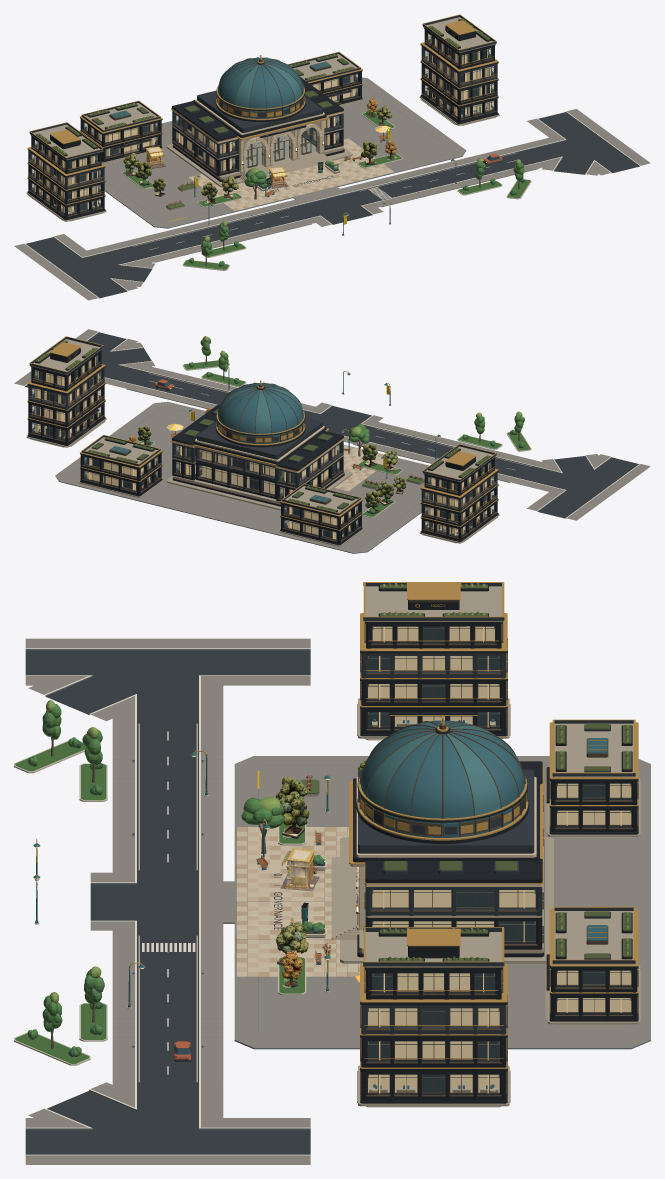
The model's file is governance-north-council-notice.glb.
The picture shows the model from 3 angles, top to bottom: view 1: azimuth 30°, elevation 25°; view 2: azimuth 150°, elevation 25°; view 3: azimuth 270°, elevation 25°; orthographic projection. The views are drawn at different scales.
Visible parts, largest first — view 1: NEXCIV paving, HERO_01_Governance_Hall.001, NEXCIV detail, NEXCIV city, HI3D | Garden Roof Retail.001, HI3D | Garden Roof Retail.002; view 2: NEXCIV paving, HERO_01_Governance_Hall.001, NEXCIV detail, NEXCIV city, HI3D | Garden Roof Retail.002, HI3D | Garden Roof Retail.001; view 3: NEXCIV paving, NEXCIV detail, HERO_01_Governance_Hall.001, NEXCIV city, HI3D | Garden Roof Retail.002, HI3D | Garden Roof Retail.001, STREET_Coffee_Stall.001, HI3D | Green Planter Tree.002.
Part boxes in pixels (x1,y1,x2,y2): NEXCIV paving: (14,77,650,300); HERO_01_Governance_Hall.001: (166,55,352,187); NEXCIV detail: (26,14,524,266); NEXCIV city: (28,99,531,270); HI3D | Garden Roof Retail.001: (80,100,163,163); HI3D | Garden Roof Retail.002: (288,51,363,105); NEXCIV paving: (14,329,650,553); HERO_01_Governance_Hall.001: (166,380,352,510); NEXCIV detail: (26,336,524,543); NEXCIV city: (30,336,531,546); HI3D | Garden Roof Retail.002: (78,435,163,497); HI3D | Garden Roof Retail.001: (279,483,363,546); NEXCIV paving: (25,638,650,1164); NEXCIV detail: (27,582,509,1106); HERO_01_Governance_Hall.001: (331,715,553,963); NEXCIV city: (14,700,641,1107); HI3D | Garden Roof Retail.002: (546,906,640,1024); HI3D | Garden Roof Retail.001: (546,719,640,836); STREET_Coffee_Stall.001: (280,848,319,891); HI3D | Green Planter Tree.002: (279,795,309,838).
Size of the model in its own units: 140 by 23.36 by 71.89.
53 materials, 4 textured.
